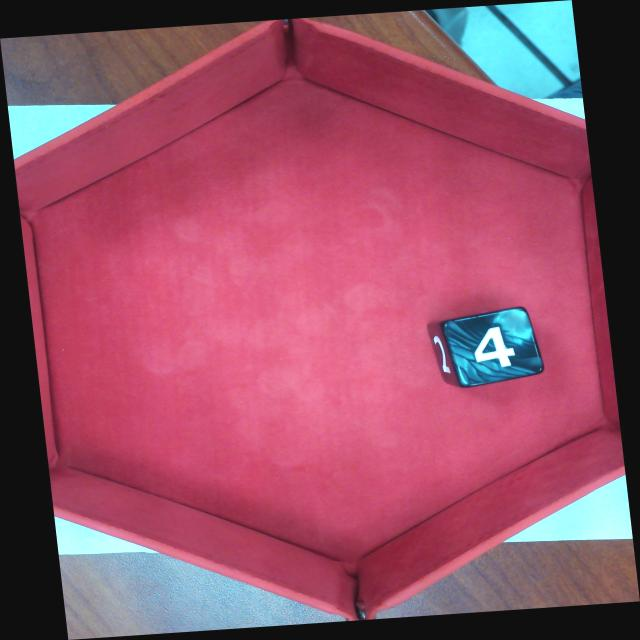dice: (438, 304, 548, 391)
